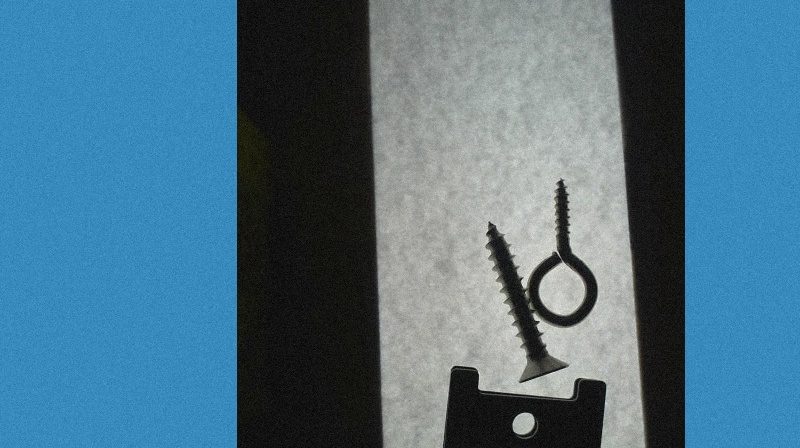O001: (523, 174, 598, 328)
O002: (438, 362, 607, 447)
S001: (482, 219, 568, 384)
